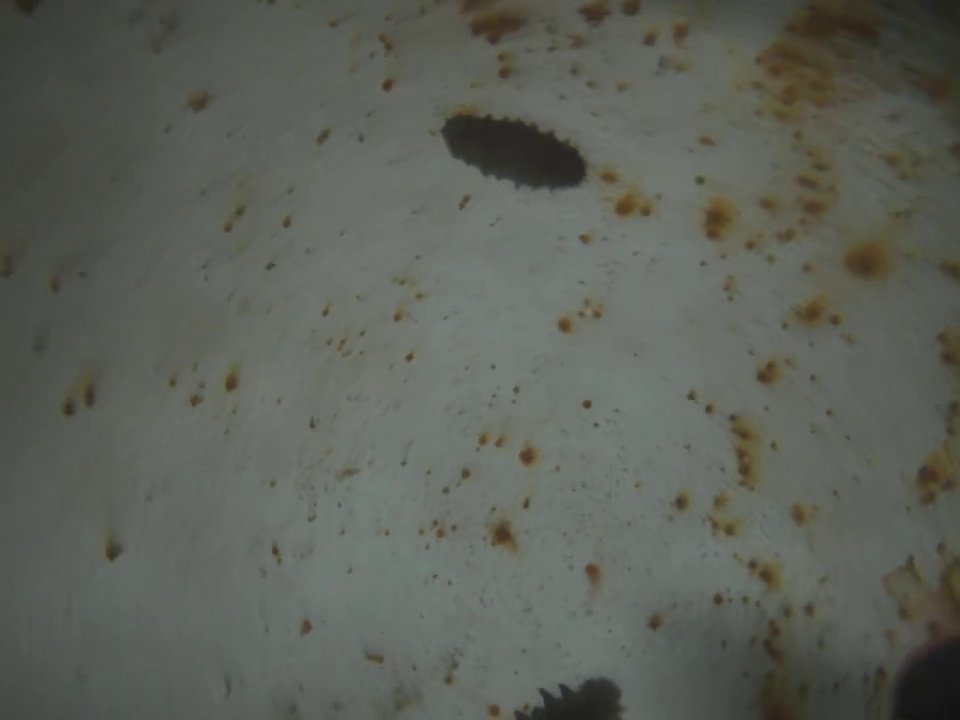seacucumber: (441, 112, 591, 192), (507, 675, 628, 720)
